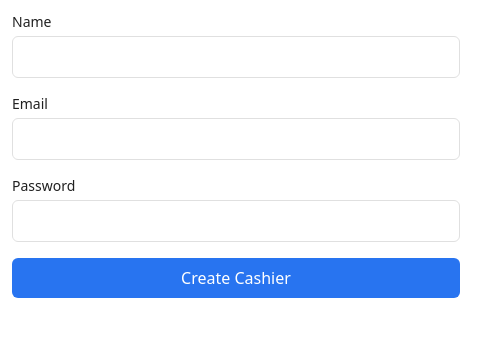
Scenario: CreateCashierForm › shows error message when API returns error
Type "Test Cashier" into the field labelled "Name".
click(236, 57); type("Test Cashier")  # box [12, 36, 460, 78]
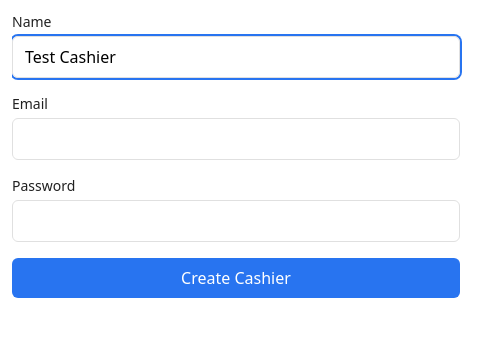
Type "cashier@example.com" into the field labelled "Email".
click(236, 139); type("cashier@example.com")  # box [12, 118, 460, 160]
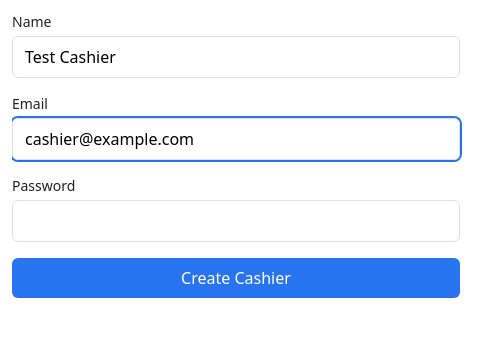
Type "SecurePass123!" into the password field labelled "Password".
click(236, 221); type("SecurePass123!")  # box [12, 200, 460, 242]
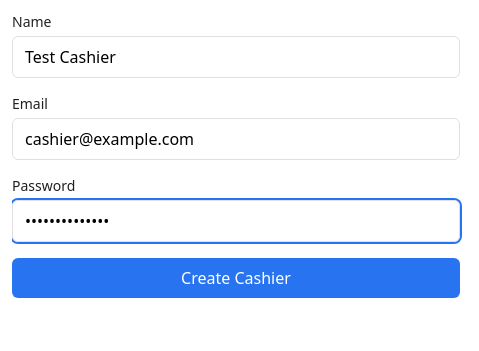
Click the button "Create Cashier".
click(236, 278)  # box [12, 258, 460, 298]
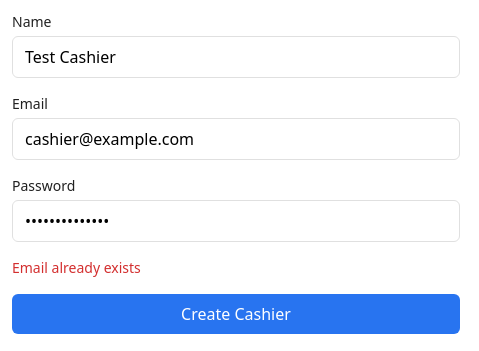
Result: the text "Email already exists" is shown at [12, 258, 141, 277]
